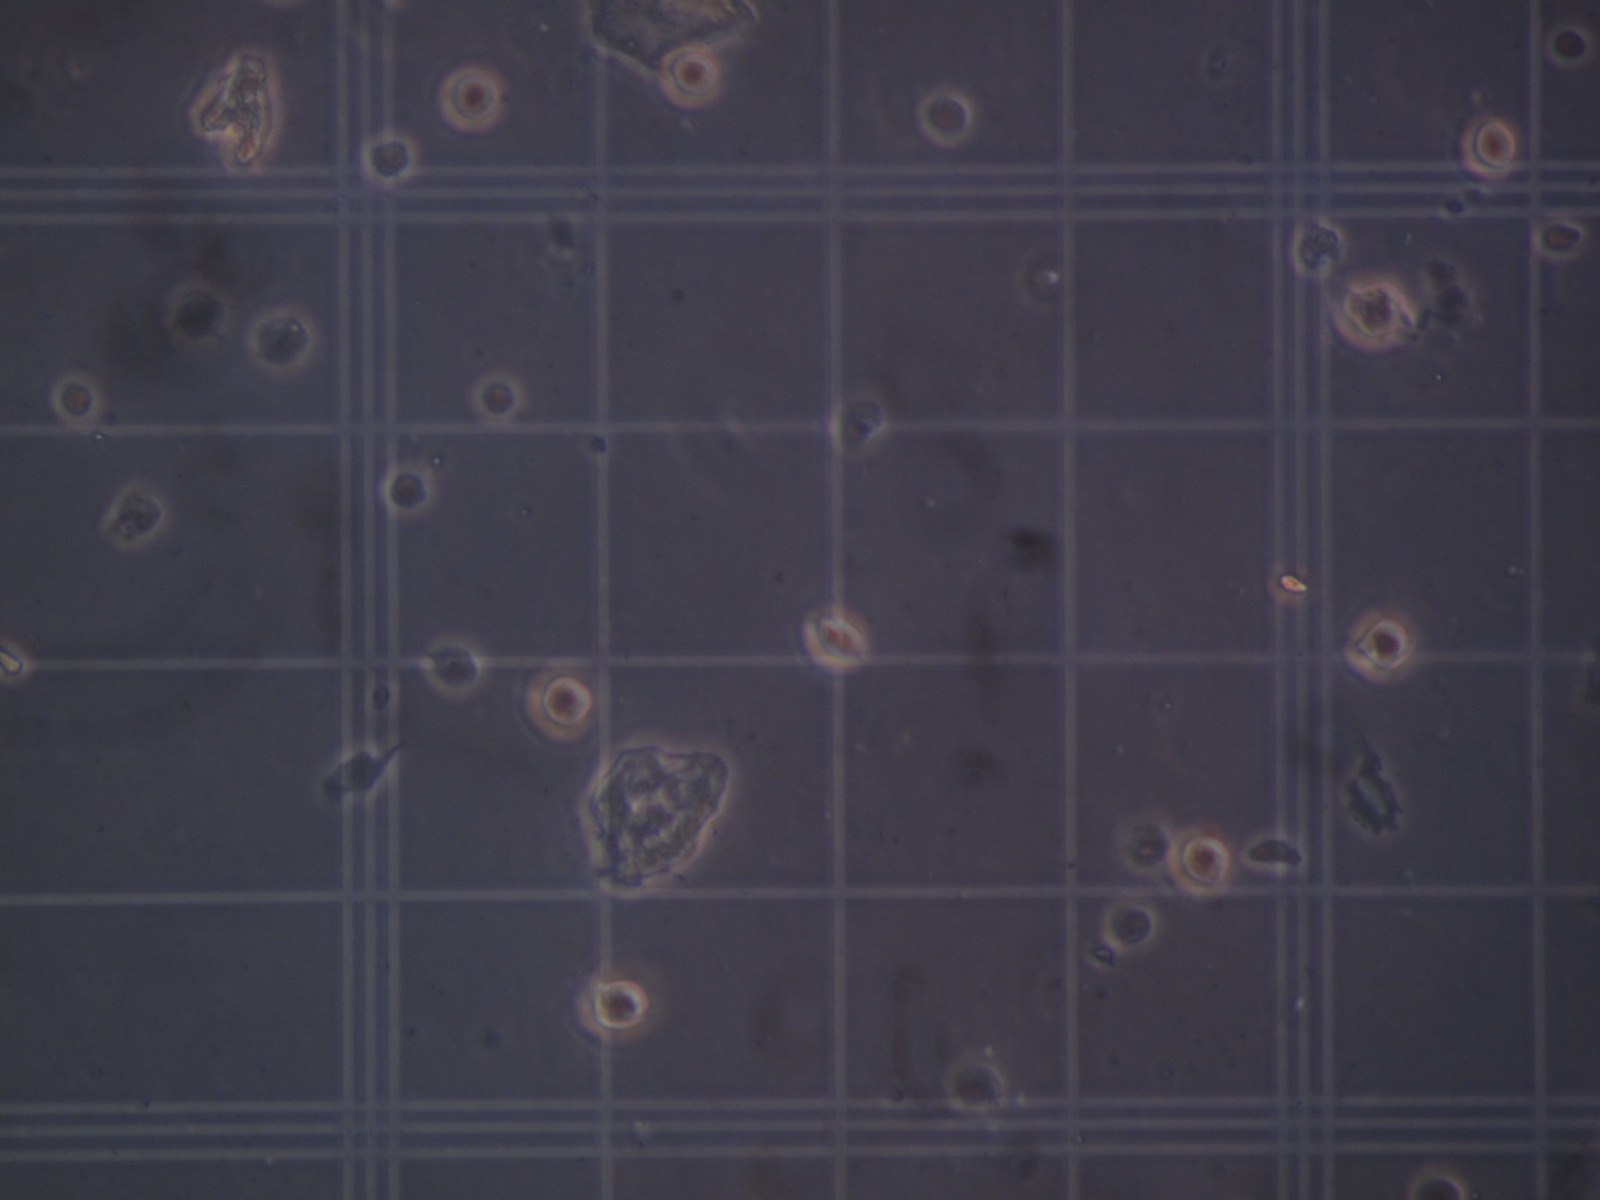hemo: (1329, 268, 1414, 354), (576, 964, 663, 1042), (1343, 609, 1421, 687), (522, 659, 593, 744), (803, 601, 872, 676), (1167, 824, 1233, 897), (829, 384, 892, 460), (165, 281, 234, 348), (420, 635, 484, 705), (941, 1050, 1007, 1116), (105, 483, 169, 548), (438, 66, 501, 132), (251, 310, 315, 374), (913, 84, 974, 150), (1116, 805, 1173, 874), (661, 45, 721, 110), (1461, 116, 1518, 180), (1293, 217, 1347, 280), (49, 371, 102, 434), (358, 129, 414, 187), (378, 461, 436, 517), (1101, 896, 1157, 953), (470, 372, 524, 424), (1532, 217, 1587, 263), (1546, 21, 1589, 69), (1409, 1170, 1469, 1200)
